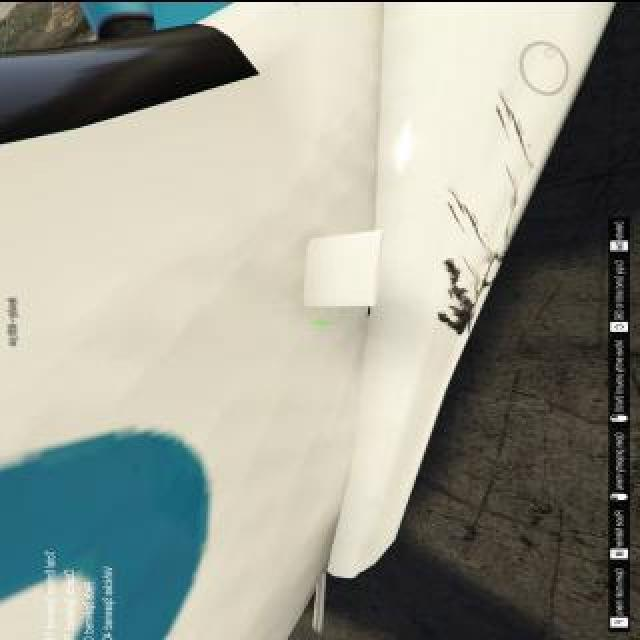dent: (439, 286, 478, 334), (444, 261, 462, 286)
